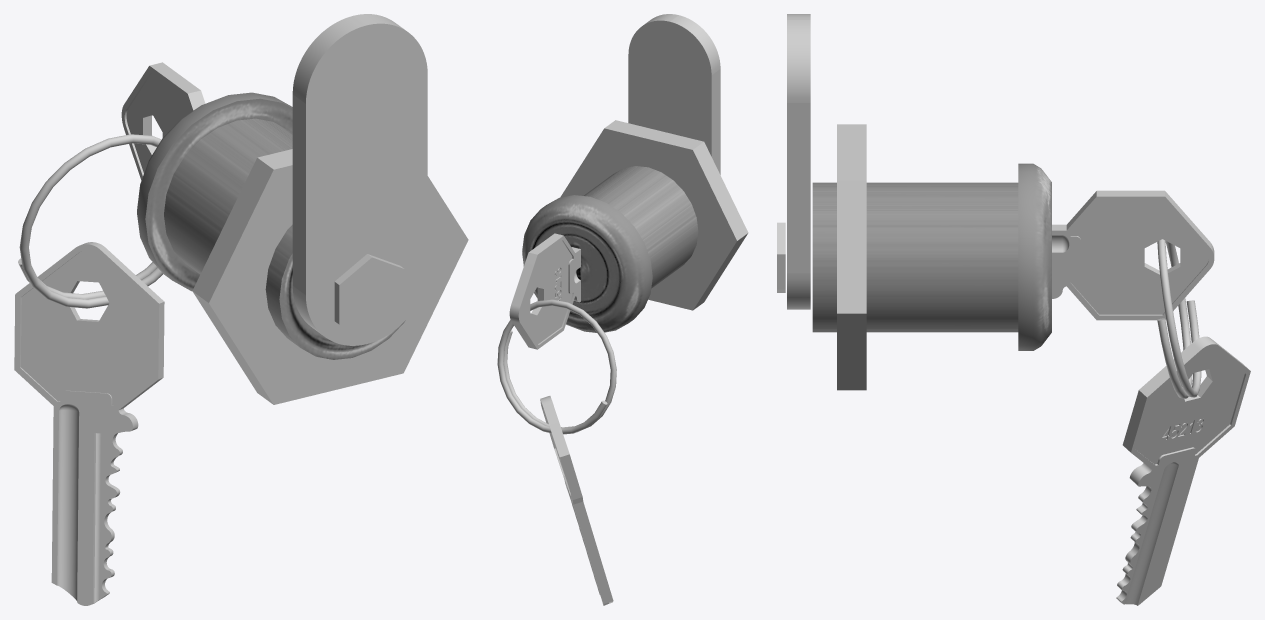
Rendered from lockerkey.gltf.
3 renders of one model, left to right at view 1: azimuth 30°, elevation 25°; view 2: azimuth 150°, elevation 25°; view 3: azimuth 270°, elevation 25°, orthographic. The views are drawn at different scales.
Parts seen in each view (by area): view 1: lockerkey-lockbodycolor (×2), lockerkey-lockkey; view 2: lockerkey-lockbodycolor (×2), lockerkey-lockkey; view 3: lockerkey-lockbodycolor (×2), lockerkey-lockkey.
Part boxes in pixels (bbox=[...]): lockerkey-lockbodycolor (×2): bbox=[14, 14, 468, 605]; lockerkey-lockkey: bbox=[137, 92, 405, 359]; lockerkey-lockbodycolor (×2): bbox=[497, 14, 748, 605]; lockerkey-lockkey: bbox=[522, 166, 698, 332]; lockerkey-lockbodycolor (×2): bbox=[777, 14, 1250, 605]; lockerkey-lockkey: bbox=[812, 163, 1051, 350].
Size of the model in its own units: 0.0391 by 0.1006 by 0.0693.
2 materials, 1 textured.
